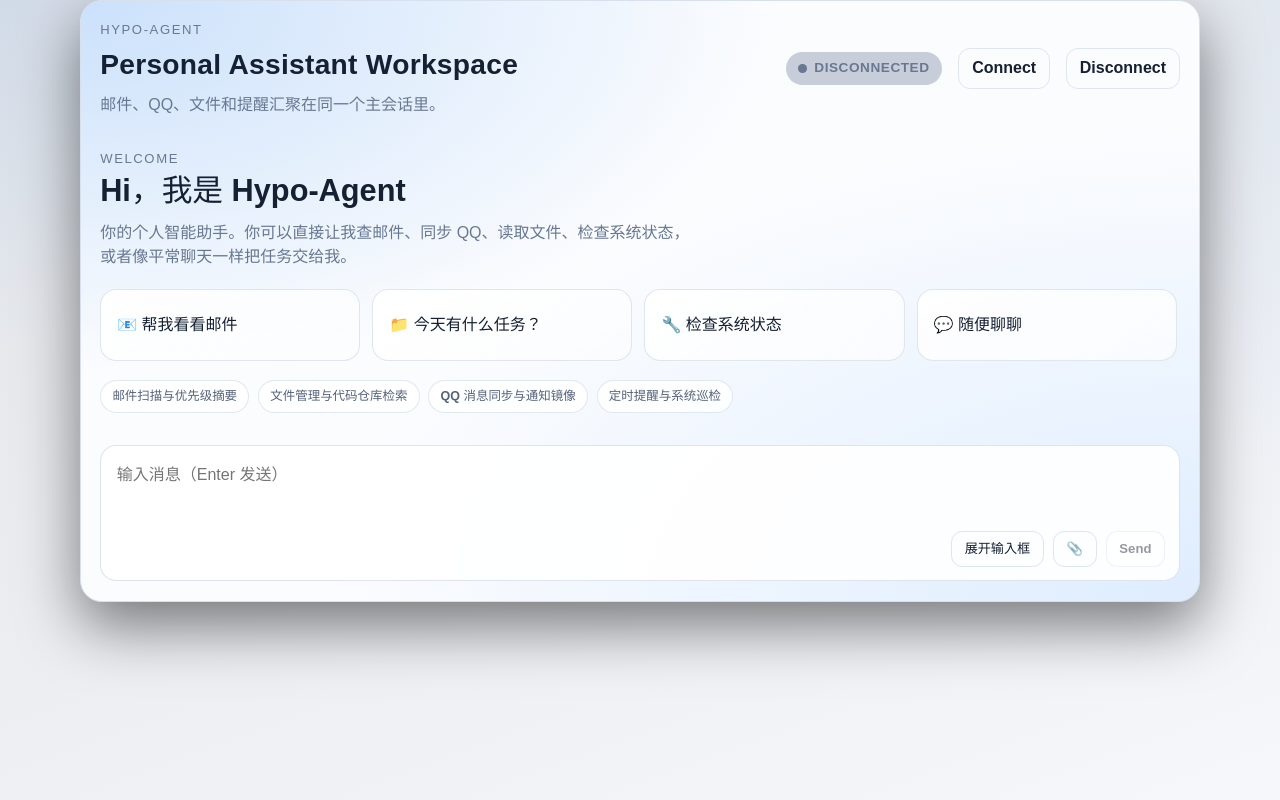
Test: ChatView › fills the composer when a welcome shortcut is clicked
This screenshot has width=1280, height=800.
Click the button with test id "quick-prompt-0" at x=230, y=325, box [100, 289, 360, 361]
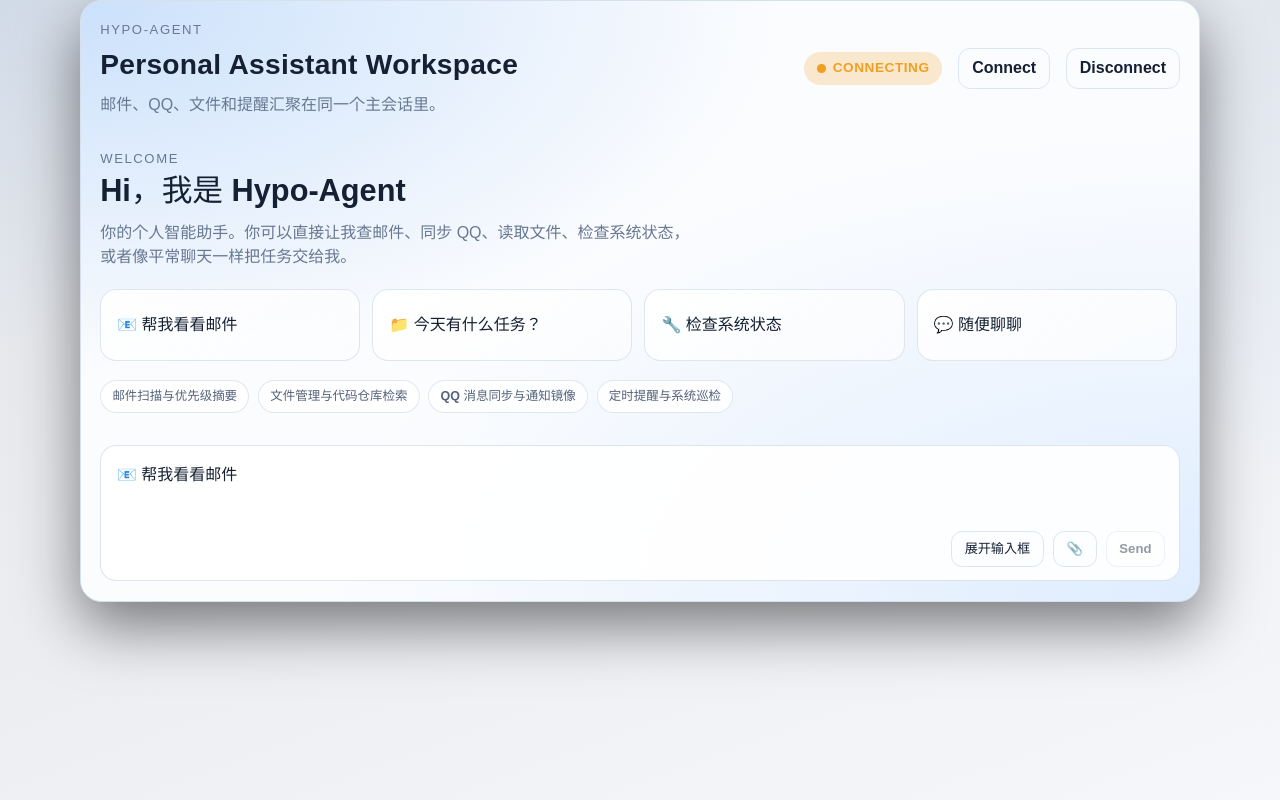
Result: the text box holds "📧 帮我看看邮件" at [115, 460, 1165, 518]
